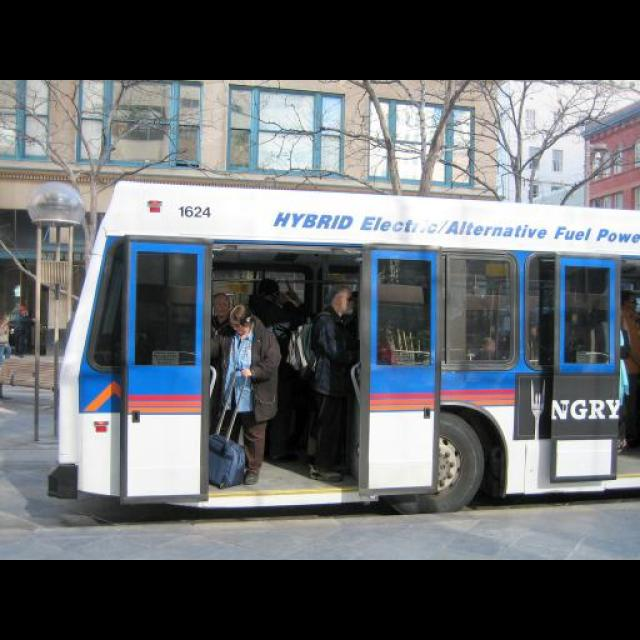Bus: (50, 172, 640, 511)
